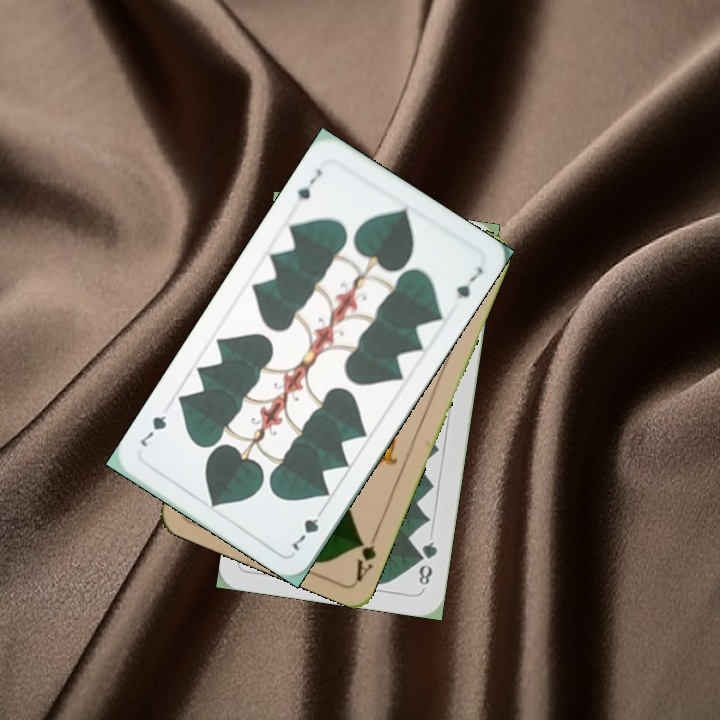G7: (288, 502, 328, 554), (293, 165, 325, 203)
G8: (414, 537, 440, 591)
GA: (352, 526, 381, 583)
